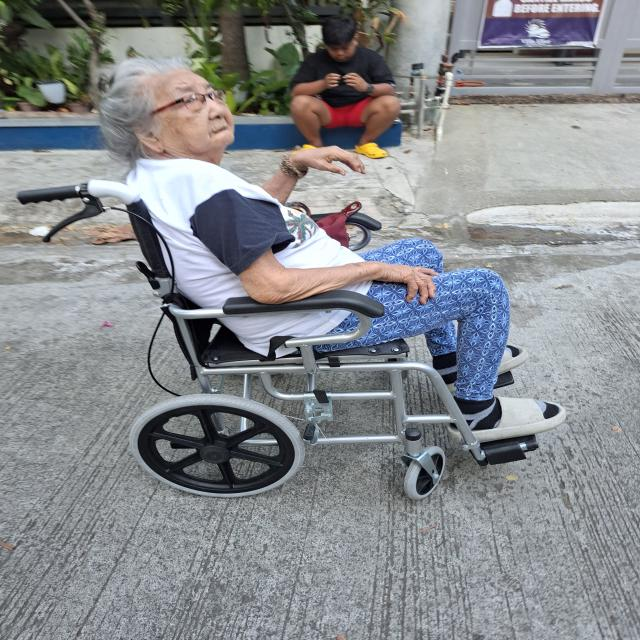wheelchairs: (13, 166, 557, 506)
